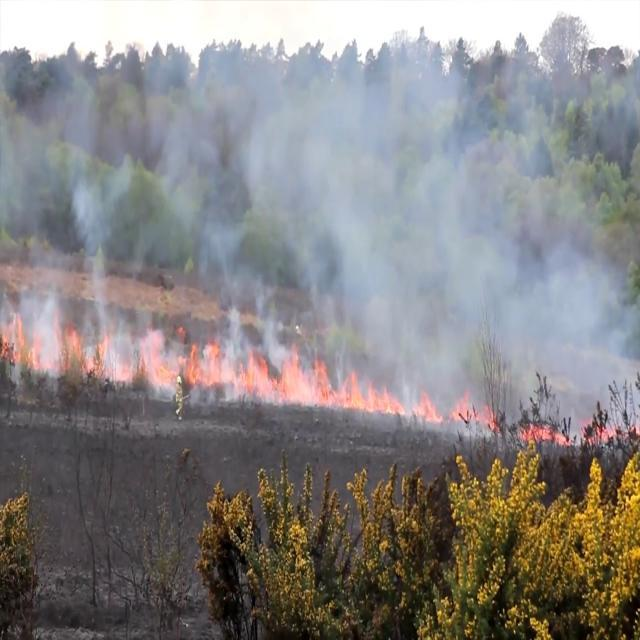Fire: (1, 310, 500, 432), (579, 415, 640, 444), (516, 419, 570, 446)
Smoke: (0, 49, 640, 439)
